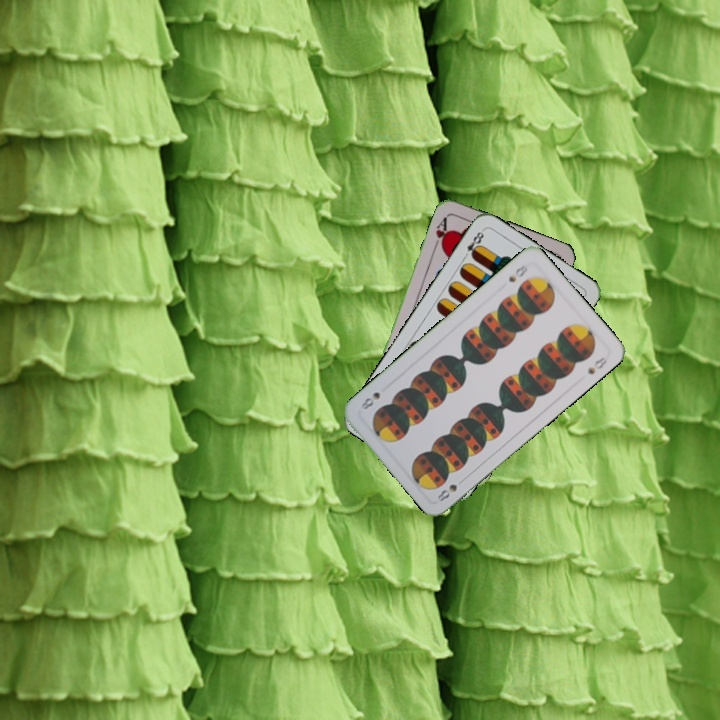E8: (459, 226, 487, 262)
HA: (430, 213, 451, 252)
S8: (504, 260, 530, 285), (433, 480, 460, 504)
